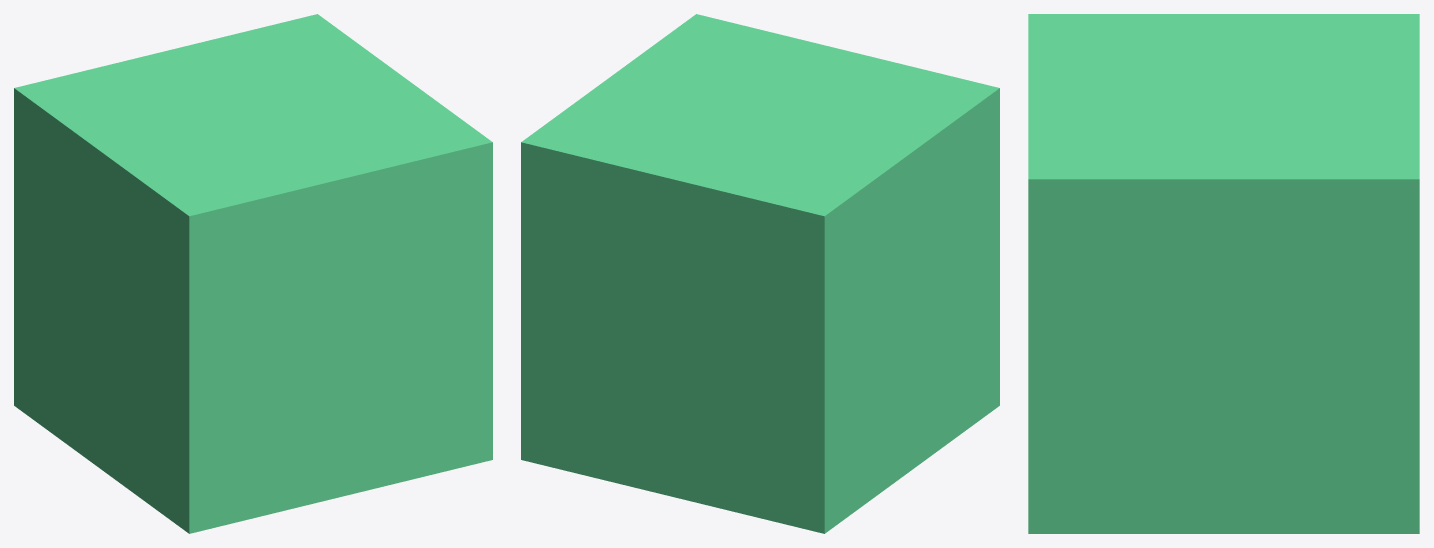
3 views of the same model, side by side, from view 1: azimuth 30°, elevation 25°; view 2: azimuth 150°, elevation 25°; view 3: azimuth 270°, elevation 25° (orthographic). The views are drawn at different scales.
Visible parts, largest first — view 1: Cube; view 2: Cube; view 3: Cube.
Part boxes in pixels (<box>): Cube: <box>14,14,492,533</box>; Cube: <box>521,14,999,533</box>; Cube: <box>1028,14,1419,533</box>.
Bounding box in the file's own units: 200 × 200 × 200.
